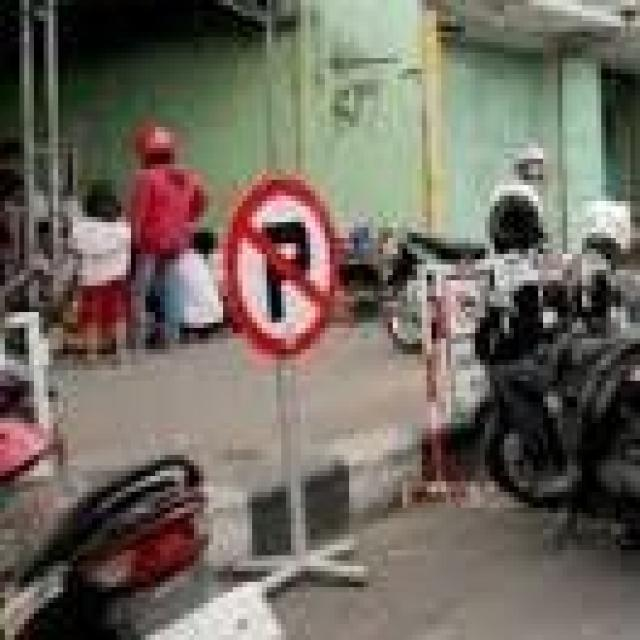traffic sign: (223, 175, 334, 360)
